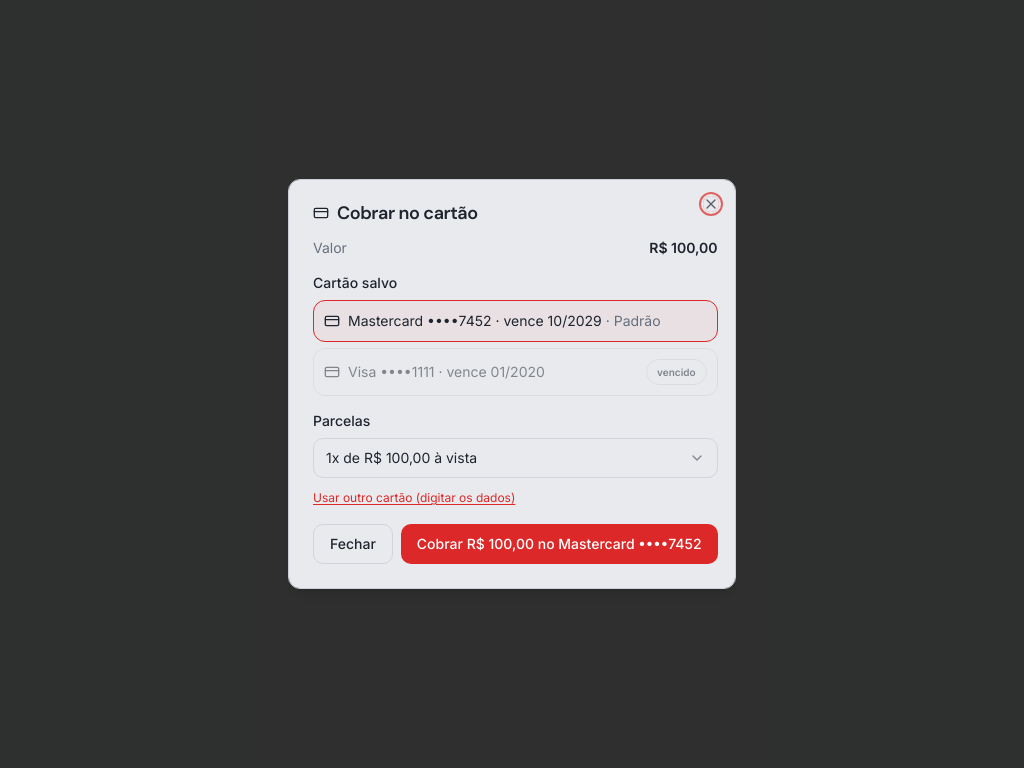
Test: PagarCartaoDialog — cobrança de um clique › resposta em_processamento (HTTP 200) trava o botão, mantém a chave e não mostra sucesso
This screenshot has width=1024, height=768.
Later steps or results of the test are not shown.
Step 1. Click the button "Cobrar R$ 100,00 no Mastercard ••••7452" → (559,544), box [401,524,718,564]
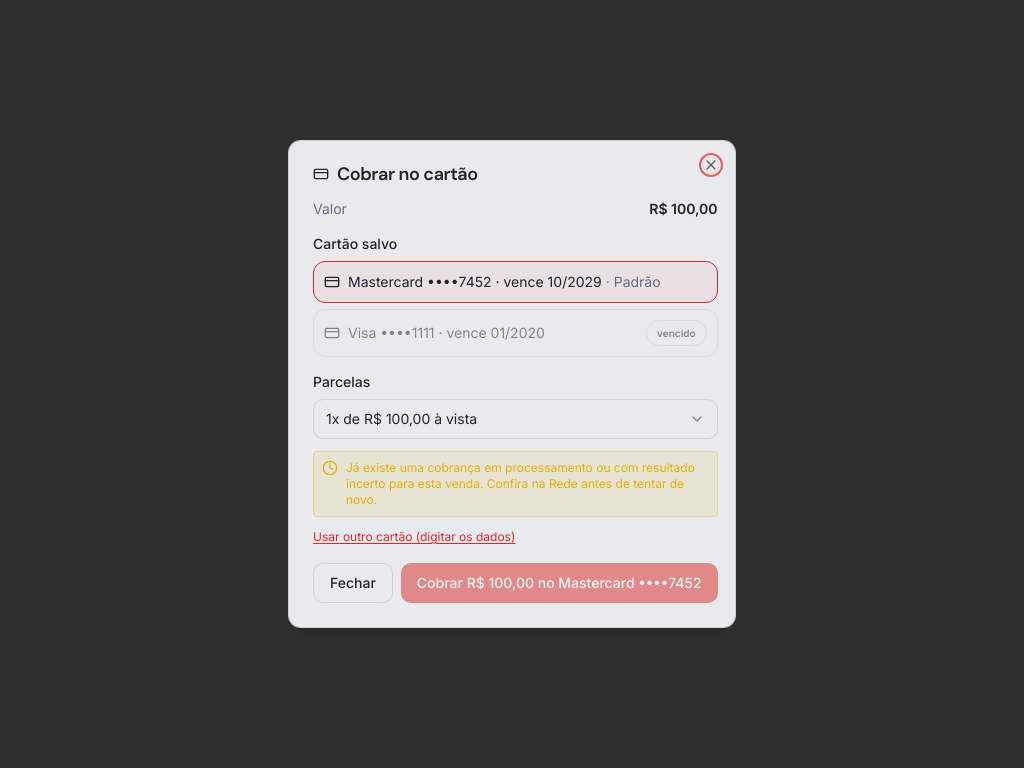
Now the text "em processamento ou com resultado incerto" is shown, box [346,460,695,507]
Now the button "Cobrar R$ 100,00 no Mastercard ••••7452" is disabled, box [401,563,718,603]
